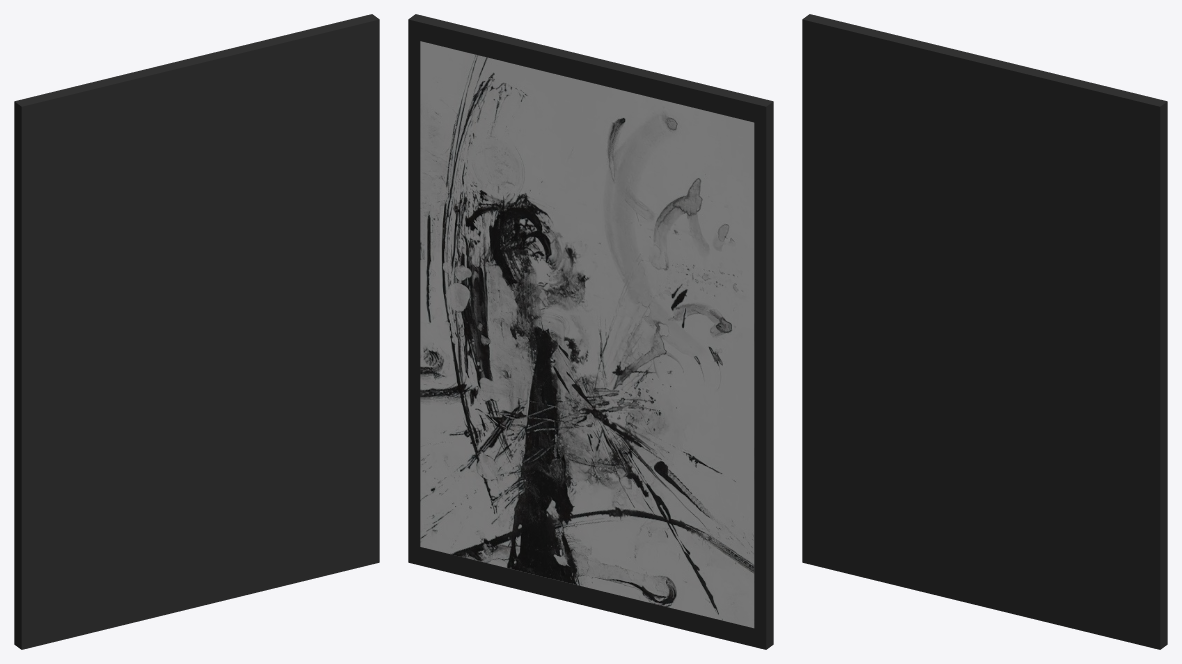
File: painting3.dae
The picture shows the model from 3 angles, left to right: view 1: azimuth 30°, elevation 25°; view 2: azimuth 150°, elevation 25°; view 3: azimuth 330°, elevation 25°; orthographic projection.
Visible parts, largest first — view 1: Cube; view 2: Cube; view 3: Cube.
Part boxes in pixels (<box>): Cube: <box>14,14,379,649</box>; Cube: <box>408,14,773,649</box>; Cube: <box>802,14,1167,649</box>.
Bounding box in the file's own units: 0.4 × 0.0144 × 0.58.
